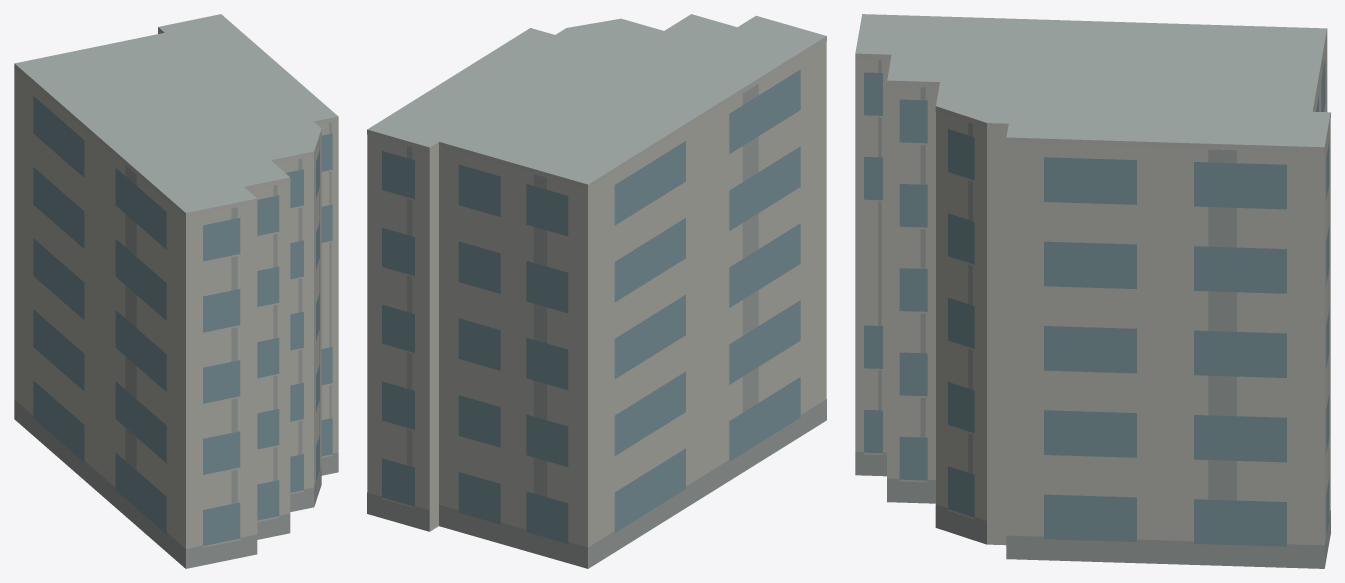
Rendered from survey-upis-32819257.glb.
3 views of the same model, side by side, from view 1: azimuth 30°, elevation 25°; view 2: azimuth 150°, elevation 25°; view 3: azimuth 270°, elevation 25° (orthographic). The views are drawn at different scales.
Visible parts, largest first — view 1: survey-upis-32819257.tmp; view 2: survey-upis-32819257.tmp; view 3: survey-upis-32819257.tmp.
Part boxes in pixels (<box>): survey-upis-32819257.tmp: <box>14,14,338,568</box>; survey-upis-32819257.tmp: <box>367,14,826,568</box>; survey-upis-32819257.tmp: <box>855,14,1330,568</box>.
Bounding box in the file's own units: 12.11 × 17.85 × 18.25.
